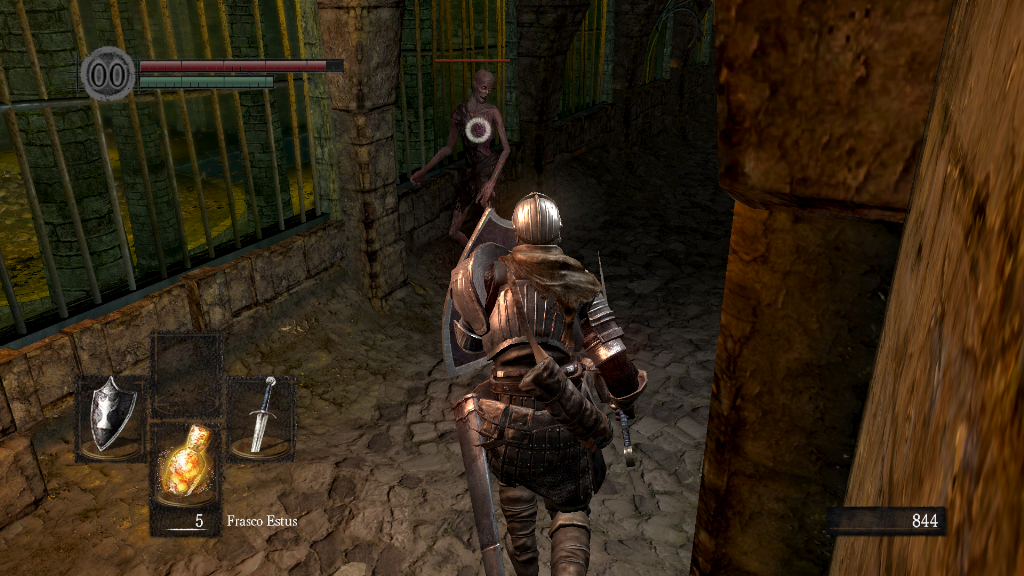health: (138, 58, 343, 71)
hollow: (407, 68, 515, 241)
humanity: (80, 45, 136, 102)
player: (441, 191, 651, 576)
souls: (825, 506, 945, 536)
stamina: (138, 74, 274, 88)
